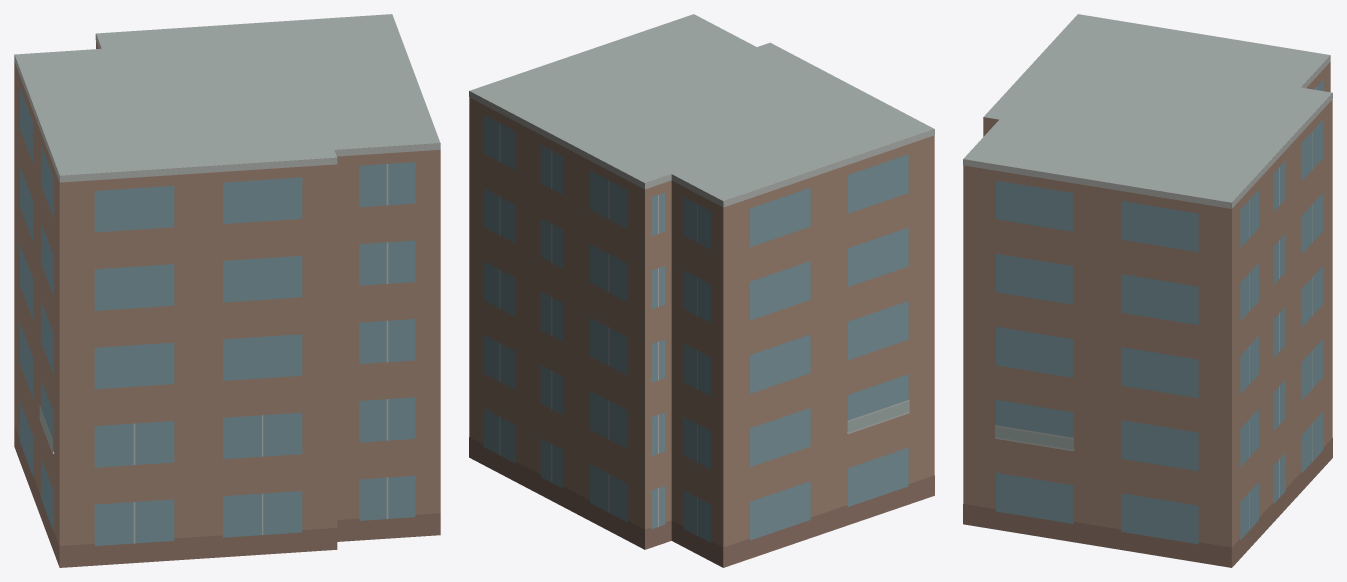
The model's file is survey-upis-32892237.glb.
3 renders of one model, left to right at view 1: azimuth 30°, elevation 25°; view 2: azimuth 150°, elevation 25°; view 3: azimuth 270°, elevation 25°, orthographic. The views are drawn at different scales.
Visible parts, largest first — view 1: survey-upis-32892237.tmp; view 2: survey-upis-32892237.tmp; view 3: survey-upis-32892237.tmp.
Boxes of the visible parts, x1=… form: survey-upis-32892237.tmp: x1=14, y1=14, x2=440, y2=567; survey-upis-32892237.tmp: x1=469, y1=14, x2=934, y2=567; survey-upis-32892237.tmp: x1=963, y1=14, x2=1332, y2=567.
Bounding box in the file's own units: 15.75 × 14.2 × 13.04.
